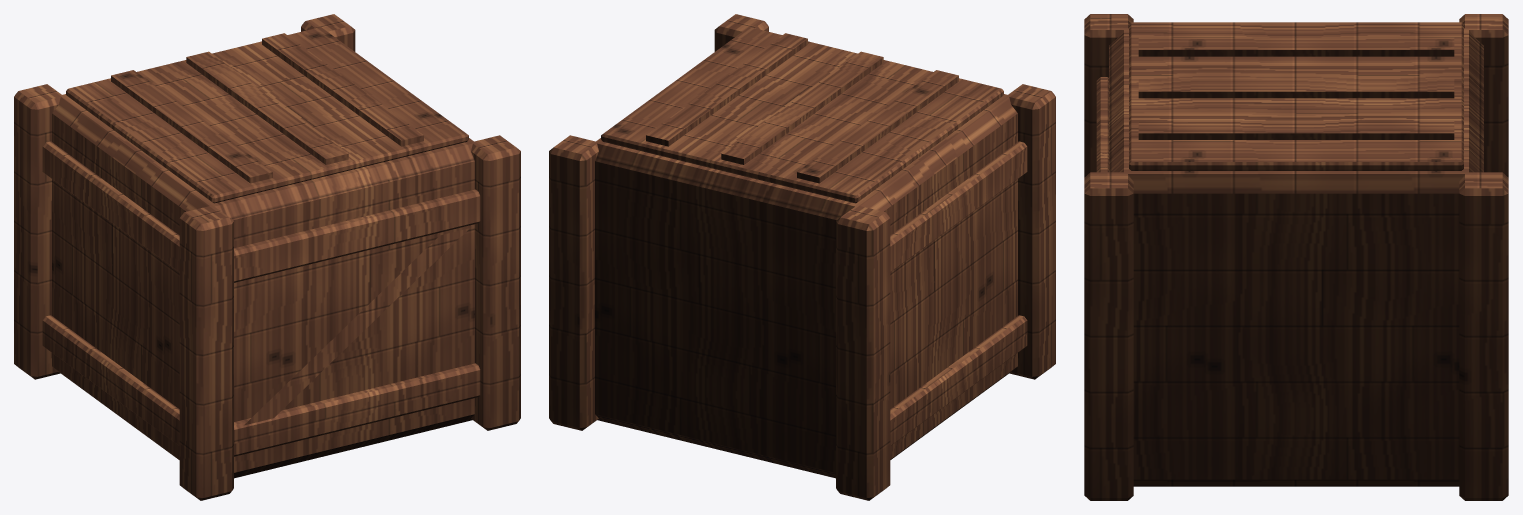
The model's file is crate.glb.
3 views of the same model, side by side, from view 1: azimuth 30°, elevation 25°; view 2: azimuth 150°, elevation 25°; view 3: azimuth 270°, elevation 25° (orthographic). The views are drawn at different scales.
Parts seen in each view (by area): view 1: crate; view 2: crate; view 3: crate.
Boxes of the visible parts, bbox=[...] form: crate: bbox=[14, 14, 520, 500]; crate: bbox=[549, 14, 1055, 500]; crate: bbox=[1084, 14, 1508, 500].
Bounding box in the file's own units: 0.86 × 0.737 × 0.86.
Materials: 3 (3 with a texture image).
